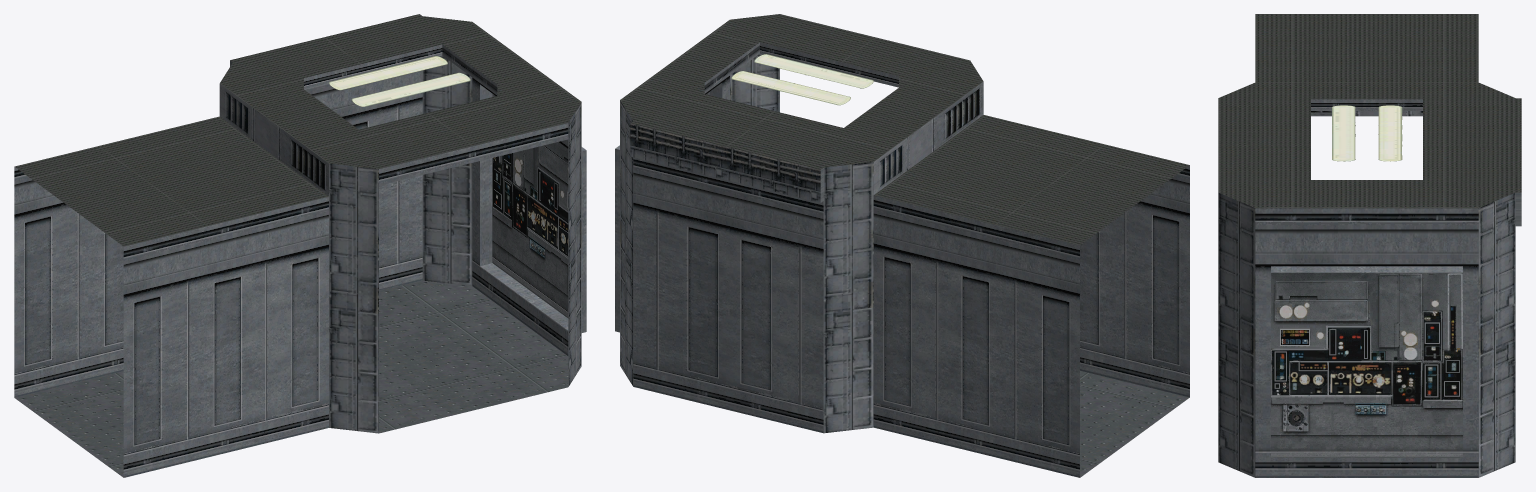
The model's file is poi_all_impl_bunker_research_facility_s01_r3_hall2_mesh_r3.fbx.
3 views of the same model, side by side, from view 1: azimuth 30°, elevation 25°; view 2: azimuth 150°, elevation 25°; view 3: azimuth 270°, elevation 25° (orthographic). The views are drawn at different scales.
Visible parts, largest first — view 1: mesh_node; view 2: mesh_node; view 3: mesh_node.
Boxes of the visible parts, x1=… form: mesh_node: x1=14, y1=14, x2=586, y2=477; mesh_node: x1=615, y1=14, x2=1189, y2=477; mesh_node: x1=1218, y1=14, x2=1521, y2=477.
Bounding box in the file's own units: 7.45 × 4.17 × 4.08.
